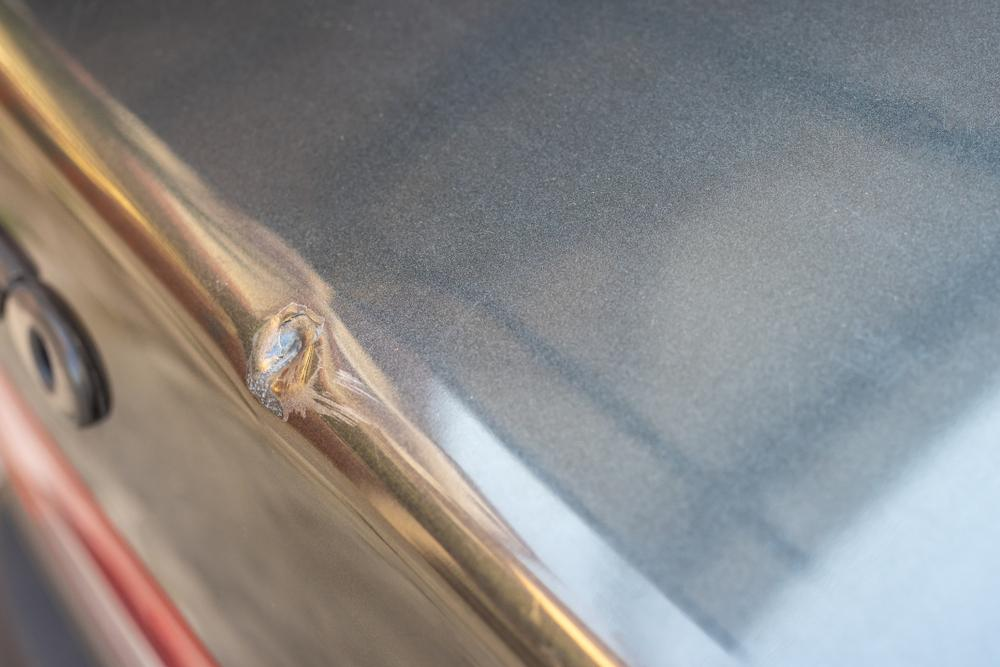scratch: (235, 297, 402, 449)
